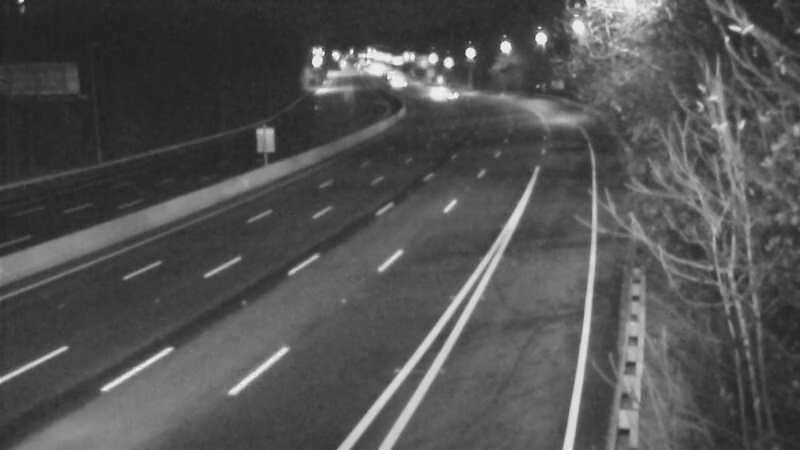vehicle: (409, 66, 459, 116), (427, 70, 477, 120)
